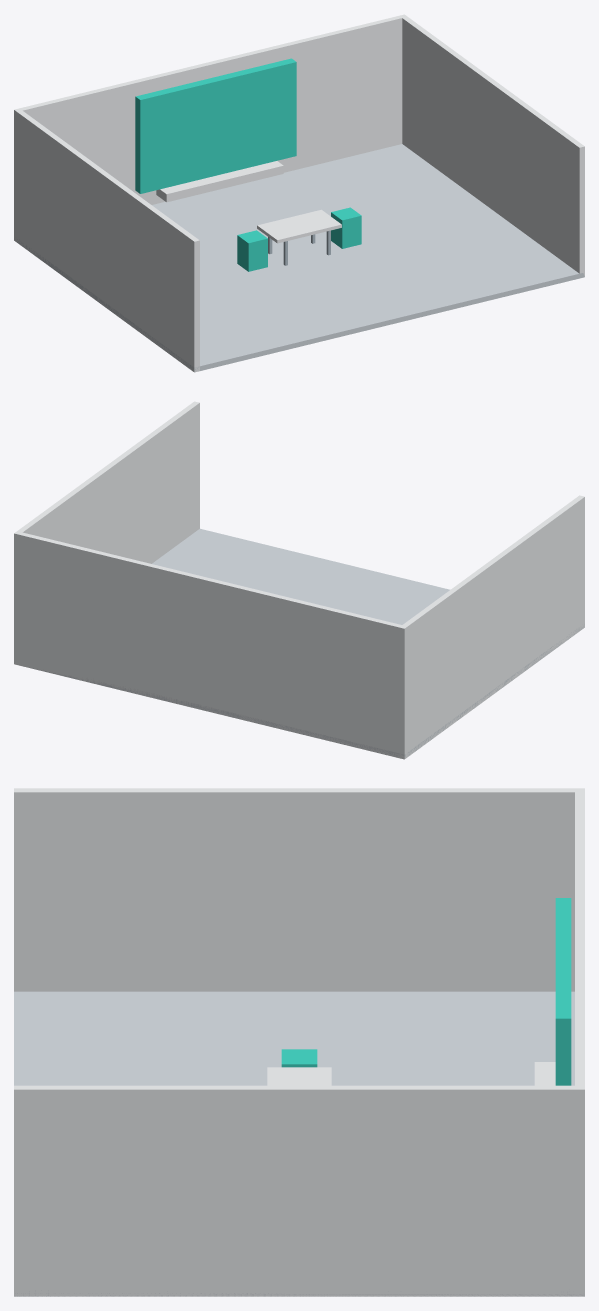
3 views of the same model, one above another, from view 1: azimuth 30°, elevation 25°; view 2: azimuth 150°, elevation 25°; view 3: azimuth 270°, elevation 25° (orthographic). The views are drawn at different scales.
Visible parts, largest first — view 1: Exhibition Booth Concept; view 2: Exhibition Booth Concept; view 3: Exhibition Booth Concept.
Part boxes in pixels (box(x1,y1,x2,y2)): Exhibition Booth Concept: box(14, 14, 584, 372); Exhibition Booth Concept: box(14, 401, 584, 759); Exhibition Booth Concept: box(14, 788, 584, 1296).
Size of the model in its own units: 10 by 3.2 by 8.
